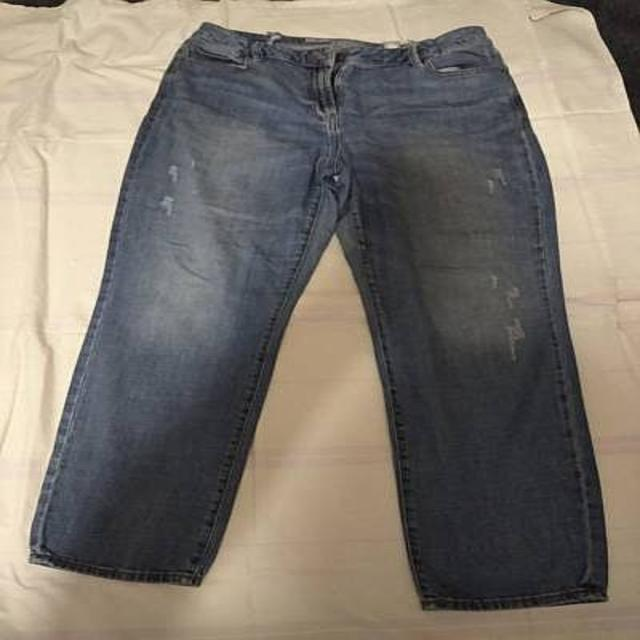TROUSER: (21, 10, 622, 616)
